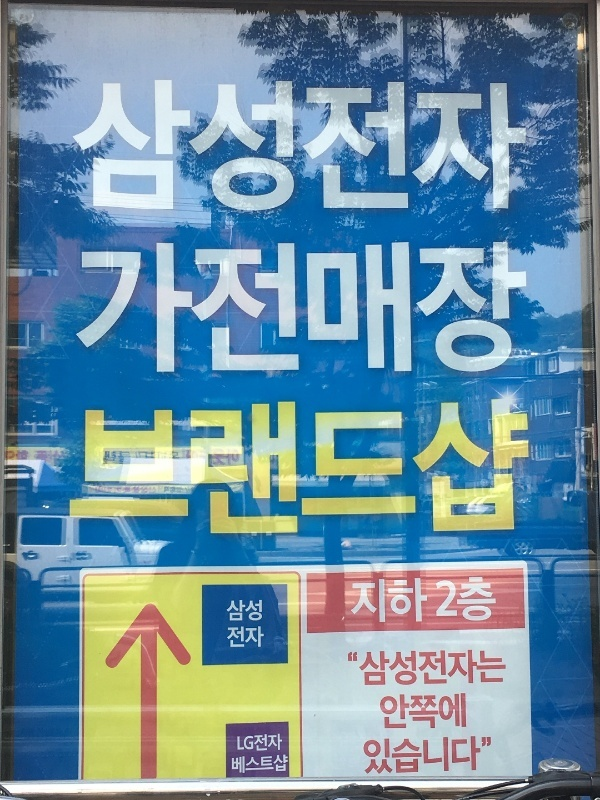text: (513, 234, 529, 380), (81, 396, 96, 547), (97, 396, 112, 547), (113, 396, 128, 547), (129, 396, 144, 547), (145, 396, 160, 547), (161, 396, 176, 547), (177, 396, 192, 547), (193, 396, 208, 547), (209, 396, 224, 547), (225, 396, 240, 547), (241, 396, 256, 547), (257, 396, 272, 547), (273, 396, 288, 547), (289, 396, 304, 547), (305, 396, 320, 547), (321, 396, 336, 547), (337, 396, 352, 547), (353, 396, 368, 547), (369, 396, 384, 547), (385, 396, 400, 547), (401, 396, 416, 547), (417, 396, 432, 547), (433, 396, 448, 547), (449, 396, 464, 547), (465, 396, 480, 547), (481, 396, 496, 547), (497, 396, 512, 547), (513, 396, 528, 547), (81, 234, 96, 380), (97, 234, 112, 380), (113, 234, 128, 380), (129, 234, 144, 380), (145, 234, 160, 380), (161, 234, 176, 380), (177, 234, 192, 380), (193, 234, 208, 380), (209, 234, 224, 380), (225, 234, 240, 380), (241, 234, 256, 380), (257, 234, 272, 380), (273, 234, 288, 380), (289, 234, 304, 380), (305, 234, 320, 380), (321, 234, 336, 380), (337, 234, 352, 380), (353, 234, 368, 380), (369, 234, 384, 380), (385, 234, 400, 380), (401, 234, 416, 380), (417, 234, 432, 380), (433, 234, 448, 380), (449, 234, 464, 380), (465, 234, 480, 380), (481, 234, 496, 380), (497, 234, 512, 380), (81, 76, 96, 216), (97, 76, 112, 216), (113, 76, 128, 216), (129, 76, 144, 216), (145, 76, 160, 216), (161, 76, 176, 216), (177, 76, 192, 216), (193, 76, 208, 216), (209, 76, 224, 216), (225, 76, 240, 216), (241, 76, 256, 216), (257, 76, 272, 216), (273, 76, 288, 216), (289, 76, 304, 216), (305, 76, 320, 216), (321, 76, 336, 216), (337, 76, 352, 216), (353, 76, 368, 216), (369, 76, 384, 216), (385, 76, 400, 216), (401, 76, 416, 216), (417, 76, 432, 216), (433, 76, 448, 216), (449, 76, 464, 216), (465, 76, 480, 216), (481, 76, 496, 216), (497, 76, 512, 216), (513, 76, 528, 216), (68, 396, 80, 547), (72, 76, 80, 216), (353, 576, 368, 626), (369, 576, 384, 626), (385, 576, 400, 626), (401, 576, 416, 626), (449, 576, 464, 625), (465, 576, 480, 625), (481, 576, 496, 625), (435, 576, 448, 625), (353, 648, 368, 689), (369, 648, 384, 689), (385, 648, 400, 689), (401, 648, 416, 689), (417, 648, 432, 689), (433, 648, 448, 689), (449, 648, 464, 689), (465, 648, 480, 689), (481, 648, 496, 689), (417, 576, 429, 626), (385, 691, 400, 731), (401, 691, 416, 731), (417, 691, 432, 731), (433, 691, 448, 731), (449, 691, 464, 731), (369, 736, 384, 776), (385, 736, 400, 776), (401, 736, 416, 776), (417, 736, 432, 776), (433, 736, 448, 776), (449, 736, 464, 776), (465, 736, 480, 776), (76, 234, 80, 380), (529, 396, 532, 547), (481, 736, 492, 776), (497, 648, 507, 689), (241, 599, 256, 622), (241, 626, 256, 649), (241, 754, 256, 774), (257, 754, 272, 774), (273, 754, 288, 774), (227, 599, 240, 622), (227, 626, 240, 649), (241, 733, 256, 752), (257, 733, 272, 752), (347, 648, 352, 689), (273, 733, 283, 752), (257, 626, 265, 649), (232, 754, 240, 774), (380, 691, 384, 731), (364, 736, 368, 776), (529, 76, 530, 216), (257, 599, 263, 622), (465, 691, 467, 731), (237, 733, 240, 752), (497, 576, 498, 625)
